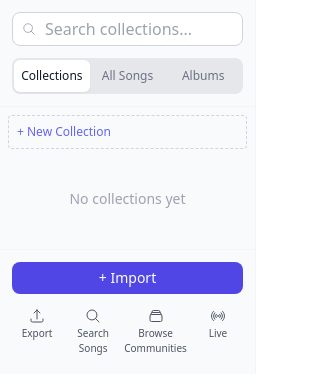
it: Sidebar view toggle › hides the view toggle while a search query is active
The image size is (320, 391).
Expected: the button "Collections" is shown, x1=14 y1=60 x2=90 y2=92
Type "grace" into the field with placeholder "Search collections...".
click(128, 29); type("grace")  # box x1=12 y1=12 x2=243 y2=46
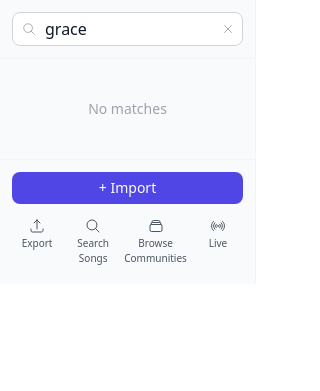
Now the button "Collections" is gone
Now the button "All Songs" is gone
